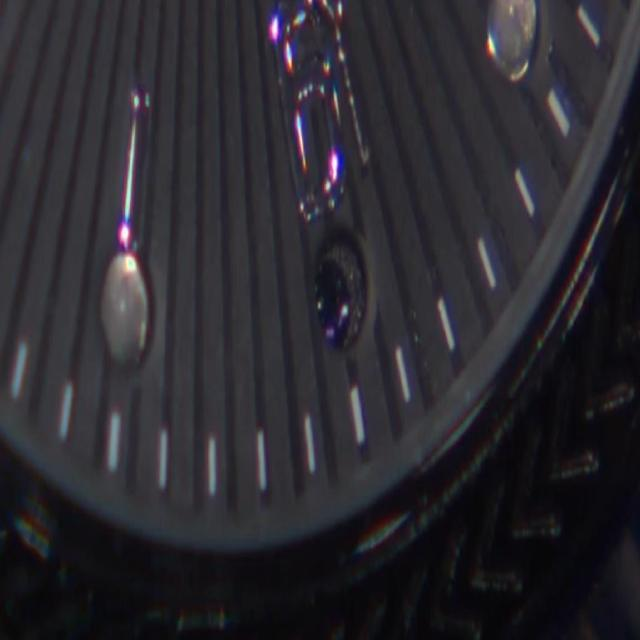hidden camera: (310, 211, 371, 360)
